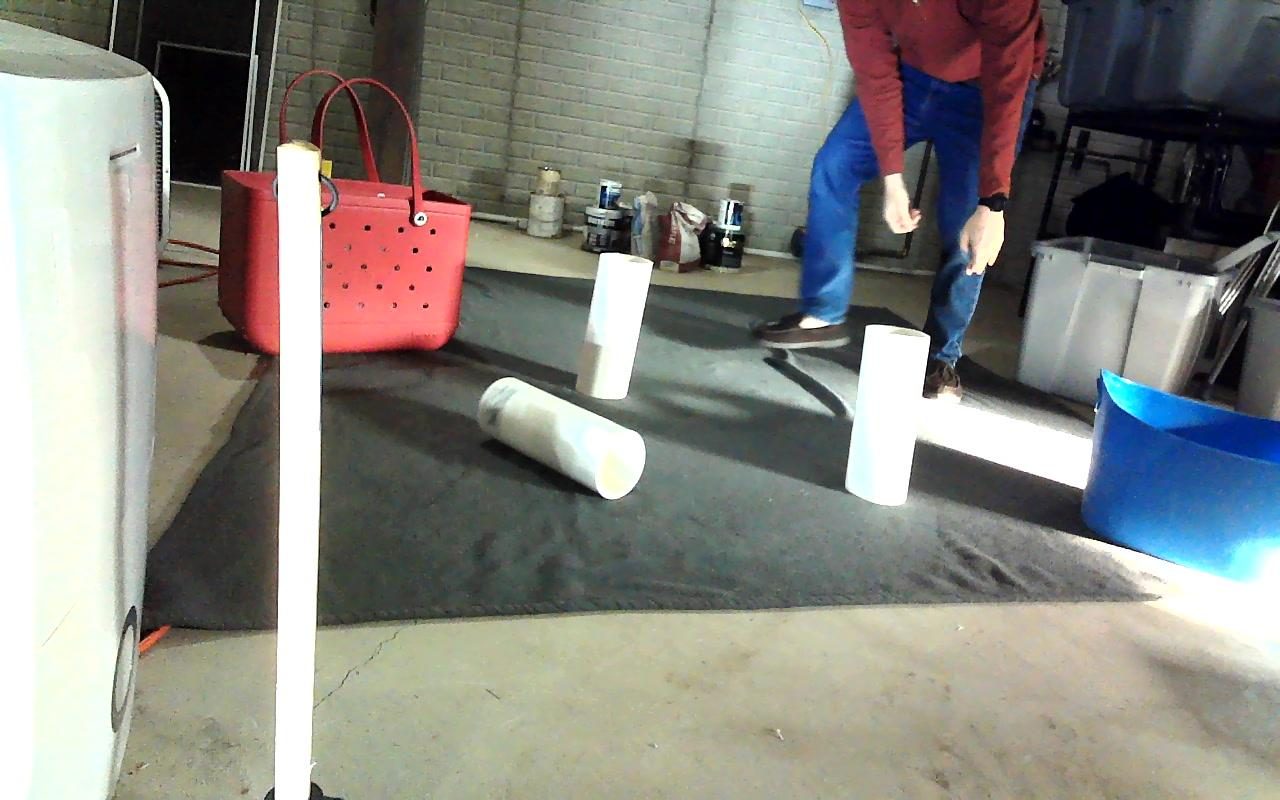coral: (476, 377, 644, 498), (845, 323, 927, 505), (577, 252, 651, 398)
